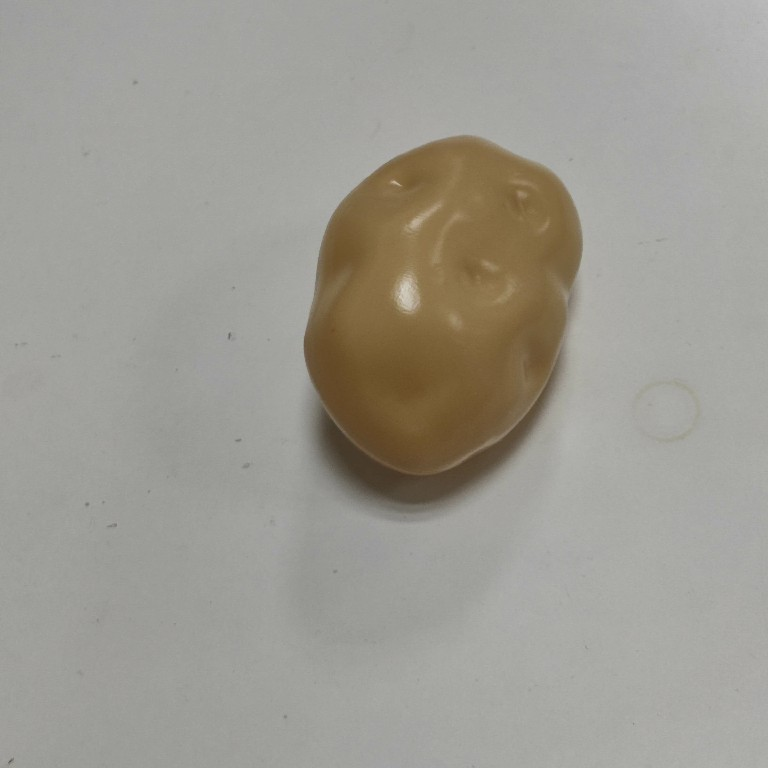fruit_potato: (294, 129, 588, 481)
